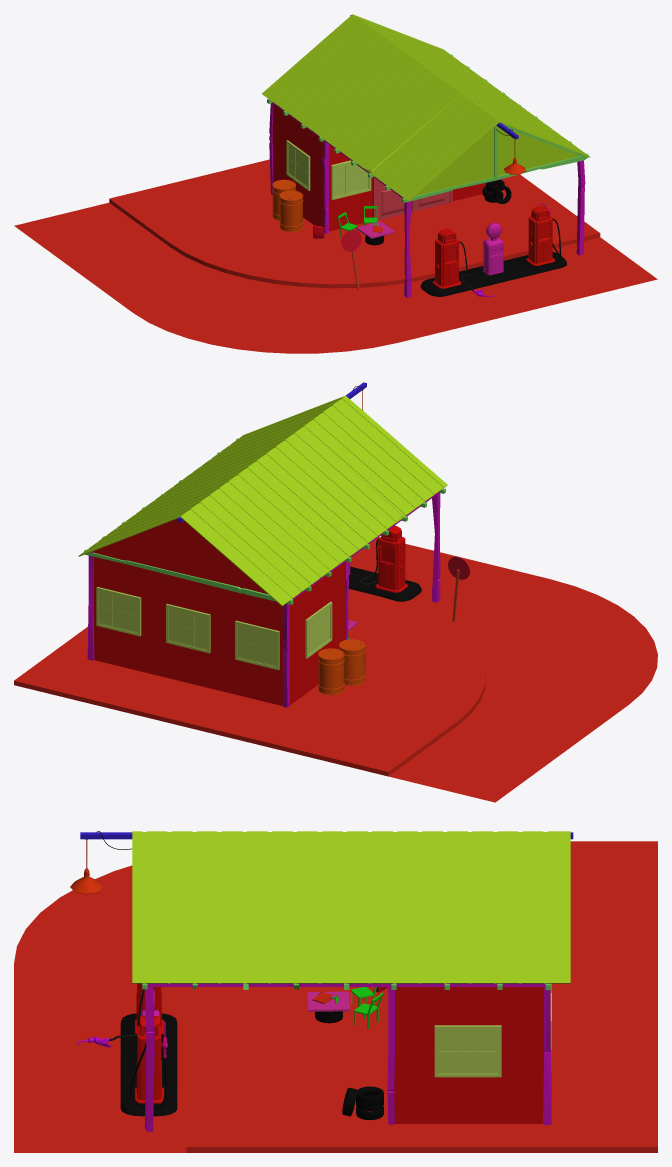
The picture shows the model from 3 angles, top to bottom: view 1: azimuth 30°, elevation 25°; view 2: azimuth 150°, elevation 25°; view 3: azimuth 270°, elevation 25°; orthographic projection. The views are drawn at different scales.
Visible parts, largest first — view 1: Plane.001, Plane, Plane.004, Cube, Cube.008, Cube.009, Cube.007, Cube.002, Cube.010, Cube.013, Cylinder.012, Cylinder.015; view 2: Plane.001, Plane, Plane.004, Cube.008, Cube, Cube.013, Cube.002, Cylinder.006, Cube.009, Cylinder.015; view 3: Plane.001, Plane, Plane.004, Cube, Cube.008, Cube.009, Cube.010, Plane.005, Cube.013, Cube.023, Cylinder.010.
Boxes of the visible parts, x1=… form: Plane.001: x1=14, y1=159, x2=657, y2=353; Plane: x1=262, y1=14, x2=589, y2=201; Plane.004: x1=272, y1=104, x2=496, y2=231; Cube: x1=269, y1=102, x2=585, y2=297; Cube.008: x1=286, y1=140, x2=371, y2=199; Cube.009: x1=420, y1=252, x2=566, y2=296; Cube.007: x1=372, y1=177, x2=452, y2=220; Cube.002: x1=267, y1=54, x2=588, y2=202; Cube.010: x1=526, y1=206, x2=555, y2=265; Cube.013: x1=432, y1=228, x2=461, y2=288; Cylinder.012: x1=483, y1=222, x2=503, y2=275; Cylinder.015: x1=279, y1=190, x2=303, y2=232; Plane.001: x1=14, y1=537, x2=657, y2=802; Plane: x1=78, y1=395, x2=447, y2=606; Plane.004: x1=93, y1=518, x2=345, y2=705; Cube.008: x1=96, y1=587, x2=332, y2=670; Cube: x1=87, y1=491, x2=440, y2=707; Cube.013: x1=375, y1=525, x2=408, y2=592; Cube.002: x1=84, y1=438, x2=445, y2=604; Cylinder.006: x1=318, y1=648, x2=344, y2=695; Cube.009: x1=348, y1=566, x2=421, y2=601; Cylinder.015: x1=339, y1=639, x2=365, y2=686; Plane.001: x1=14, y1=841, x2=657, y2=1152; Plane: x1=132, y1=831, x2=570, y2=983; Plane.004: x1=394, y1=987, x2=544, y2=1123; Cube: x1=144, y1=983, x2=551, y2=1131; Cube.008: x1=434, y1=983, x2=551, y2=1077; Cube.009: x1=120, y1=1013, x2=177, y2=1116; Cube.010: x1=134, y1=1016, x2=164, y2=1103; Plane.005: x1=307, y1=991, x2=350, y2=1011; Cube.013: x1=134, y1=983, x2=164, y2=1034; Cube.023: x1=70, y1=839, x2=103, y2=894; Cylinder.010: x1=356, y1=1086, x2=383, y2=1105.
Bounding box in the file's own units: 1426 × 504 × 1246.
